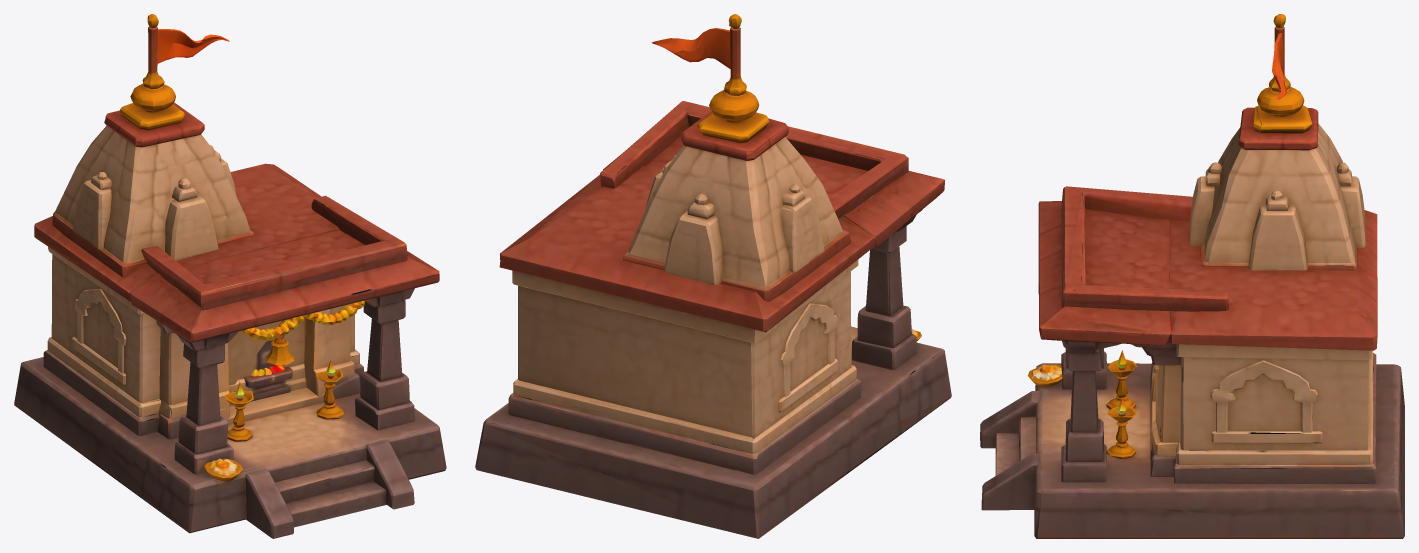
File: temple.glb
3 renders of one model, left to right at view 1: azimuth 30°, elevation 25°; view 2: azimuth 150°, elevation 25°; view 3: azimuth 270°, elevation 25°, orthographic. The views are drawn at different scales.
Visible parts, largest first — view 1: mesh_000; view 2: mesh_000; view 3: mesh_000.
Part boxes in pixels (x1,y1,x2,y2): mesh_000: [14, 14, 446, 538]; mesh_000: [475, 14, 951, 538]; mesh_000: [980, 14, 1404, 538].
Size of the model in its own units: 0.6216 by 0.9526 by 0.8428.
1 material, 1 textured.
